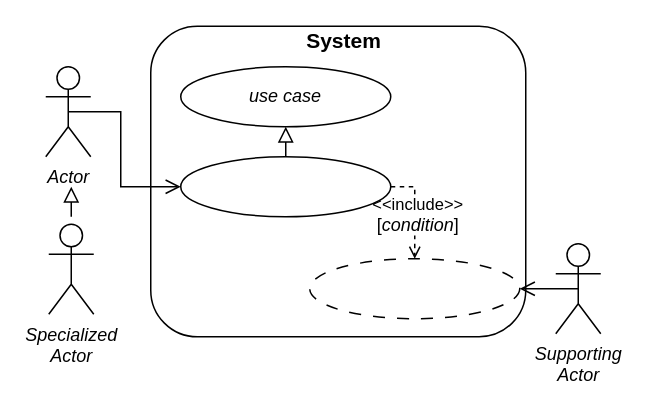
Image size: 648x414. Some labels were removed from this diagram. The centre of each missing label's shape, as x and y in pixels:
"pseudo use case" belongs at [414,288].
"specialized use case" belongs at [285,186].
